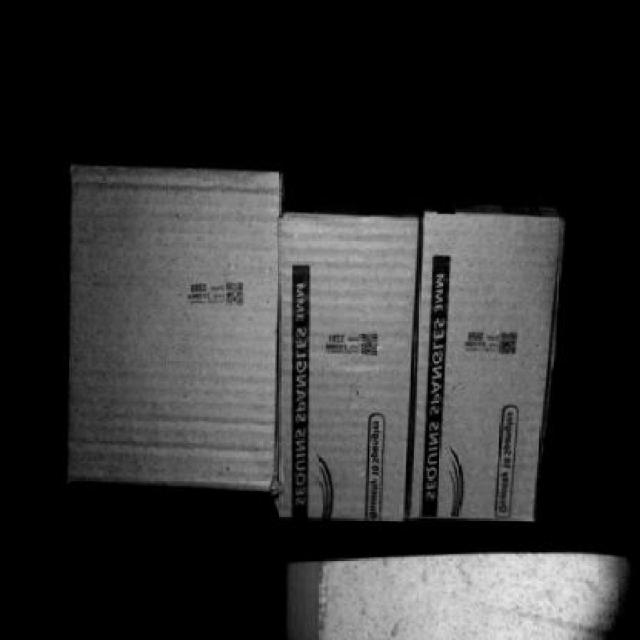cardboxes: (72, 162, 278, 487), (411, 212, 562, 531), (278, 214, 417, 517)
